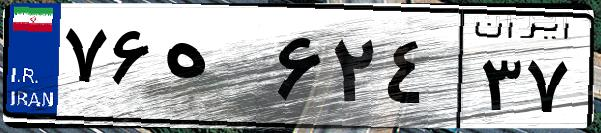2: (330, 28, 385, 110)
3: (475, 38, 525, 113)
4: (385, 28, 445, 110)
6: (270, 28, 330, 110), (110, 28, 158, 98)
7: (57, 26, 110, 100), (525, 38, 570, 115)
ه: (158, 20, 270, 120)
